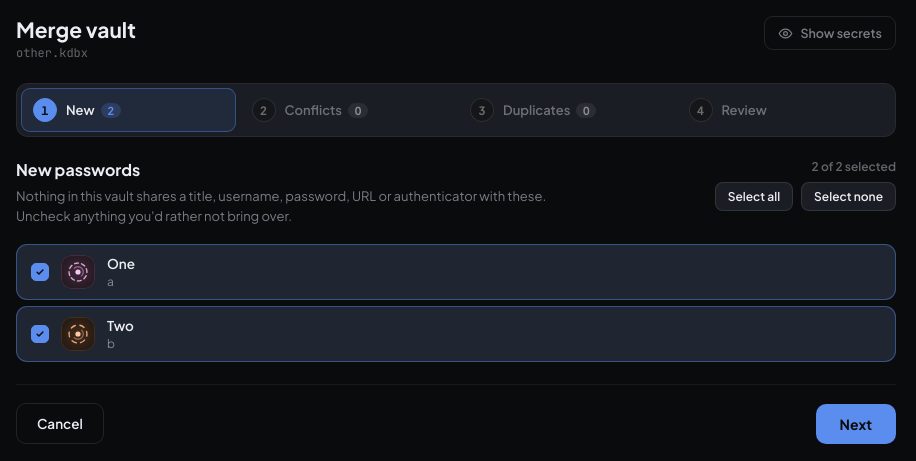
MergeWizardScreen › step 1 — new passwords › selects and deselects everything at once
Step 1. Click the button "Select none" → coordinates (849, 196), box x1=801 y1=182 x2=896 y2=211
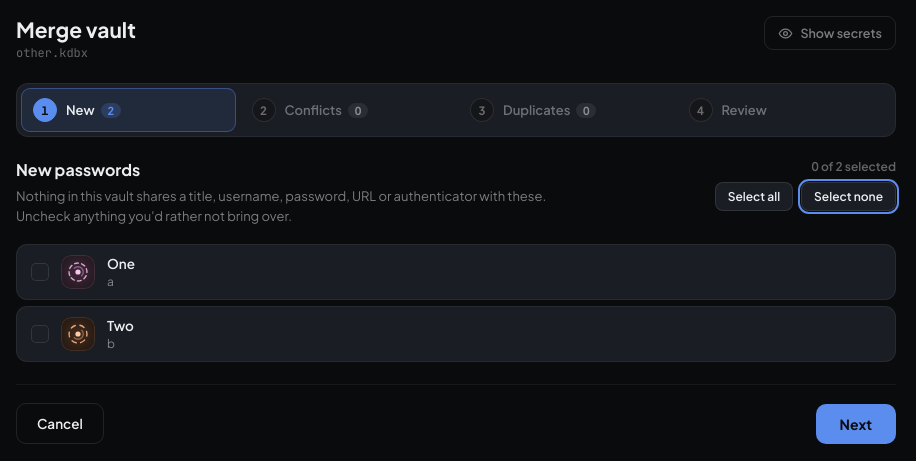
Check: the text "0 of 2 selected" is shown, box x1=812 y1=159 x2=896 y2=174
Step 2. Click the button "Select all" → coordinates (754, 196), box x1=715 y1=182 x2=793 y2=211
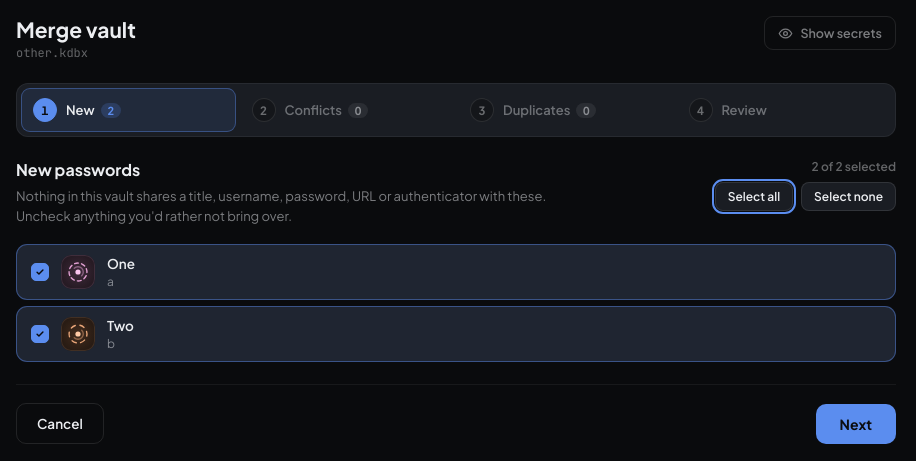
Check: the text "2 of 2 selected" is shown, box x1=812 y1=159 x2=896 y2=174
